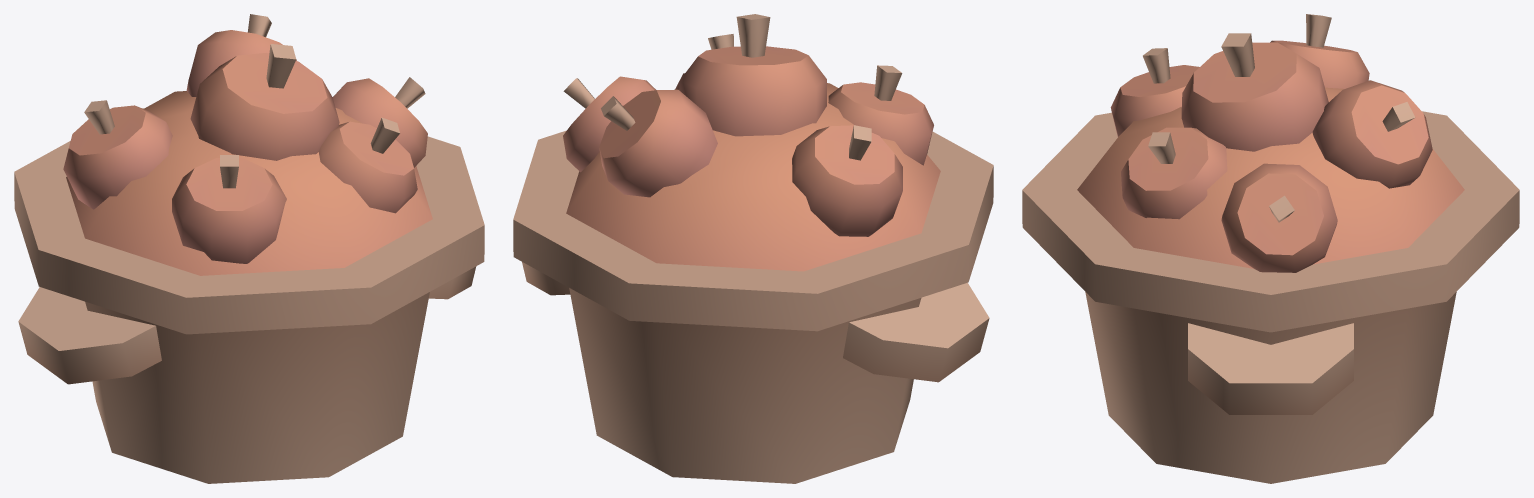
The model's file is display-fruit.glb.
3 renders of one model, left to right at view 1: azimuth 30°, elevation 25°; view 2: azimuth 150°, elevation 25°; view 3: azimuth 270°, elevation 25°, orthographic. The views are drawn at different scales.
Parts seen in each view (by area): view 1: display-fruit; view 2: display-fruit; view 3: display-fruit.
Part boxes in pixels (x1,y1,x2,y2): display-fruit: [14, 14, 484, 483]; display-fruit: [513, 14, 993, 483]; display-fruit: [1022, 14, 1519, 483].
Bounding box in the file's own units: 0.6 × 0.516 × 0.6.
